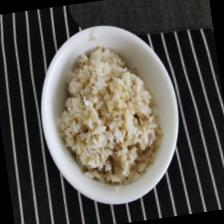rice: (48, 39, 168, 190)
